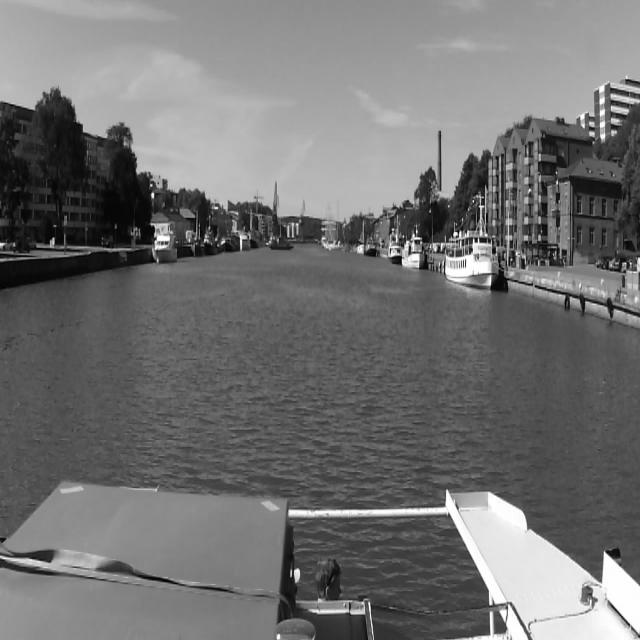ship: (445, 193, 499, 292), (152, 230, 174, 270), (403, 230, 425, 268), (266, 233, 296, 252), (384, 229, 398, 263), (362, 237, 380, 259)
